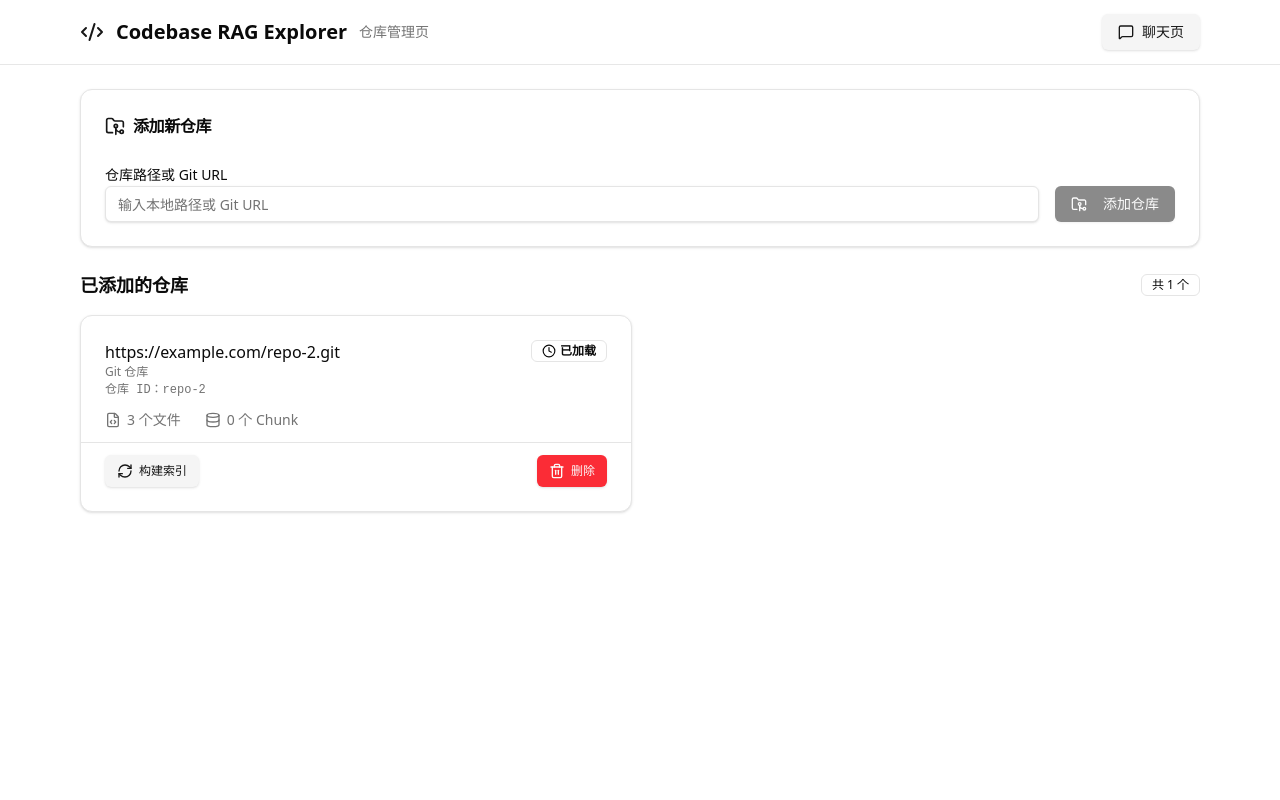
Test: ReposPage › cancels deleting repo when confirm dialog is rejected
Check: the text "https://example.com/repo-2.git" is shown, box [105,341,340,363]
Click the button with aria-label "删除仓库 repo-2": (572, 471) [537,455,607,487]
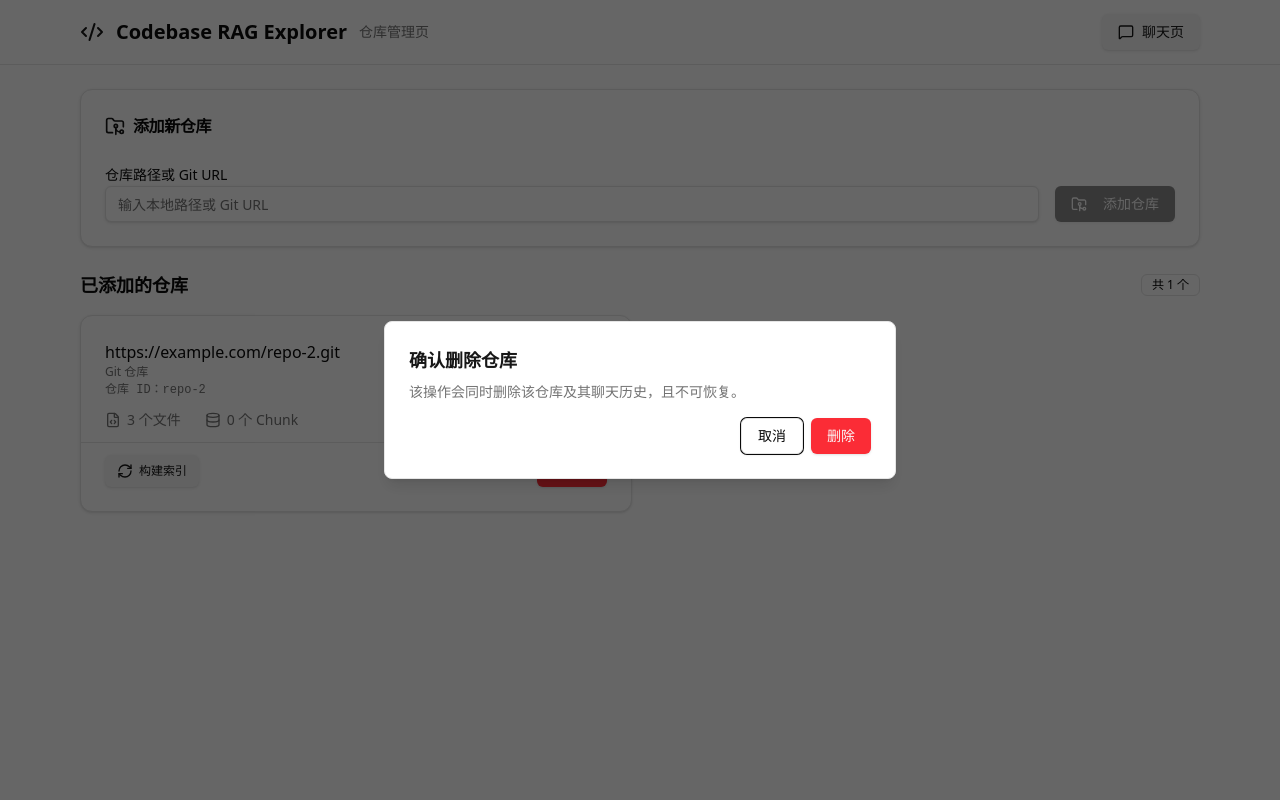
Check: the dialog is shown, box [384,321,896,479]
Click the button "取消": (772, 436) [741,418,803,454]
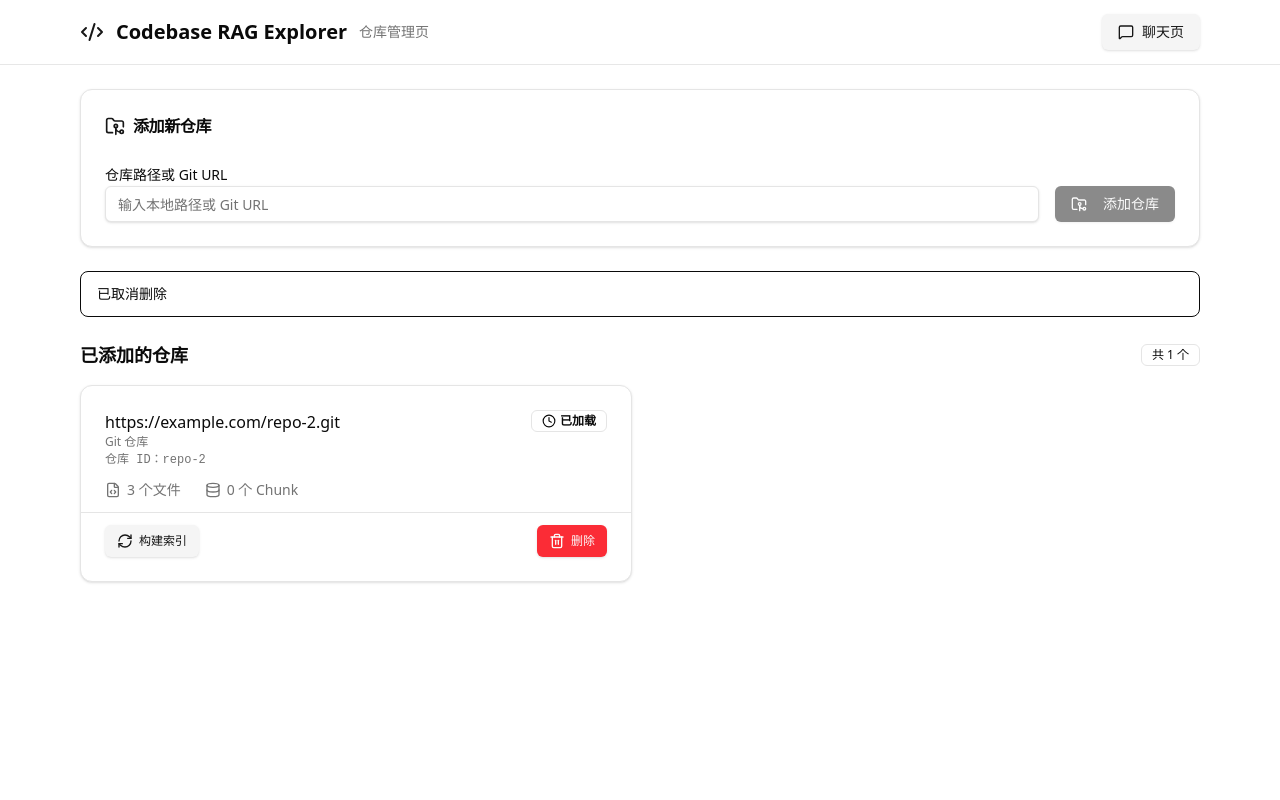
Check: the text "已取消删除" is shown, box [97,284,167,303]
